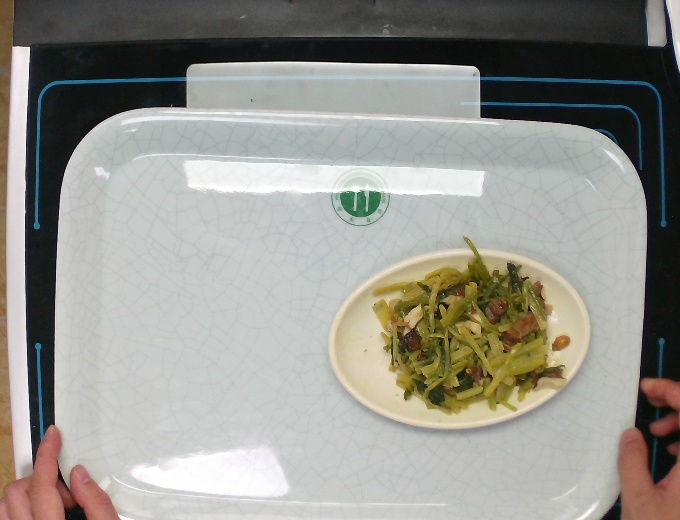JYsf-Tuo_Yuan_Wan: (323, 244, 595, 433)
